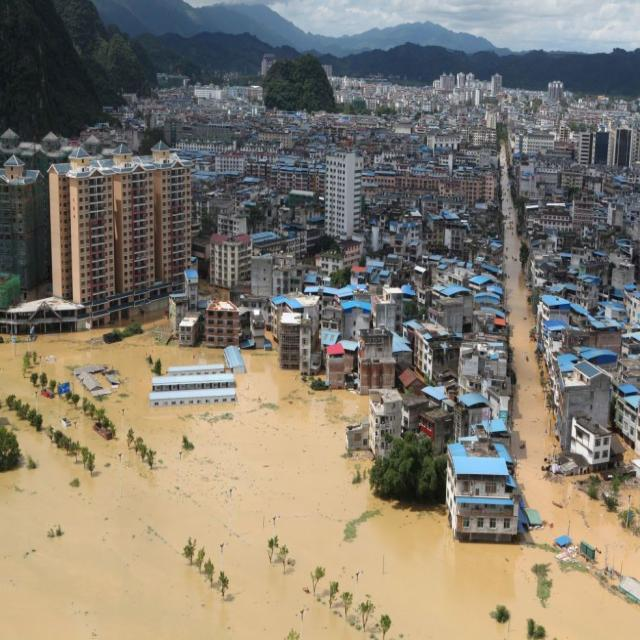flooded_areas: (6, 284, 514, 620), (475, 114, 636, 576)
